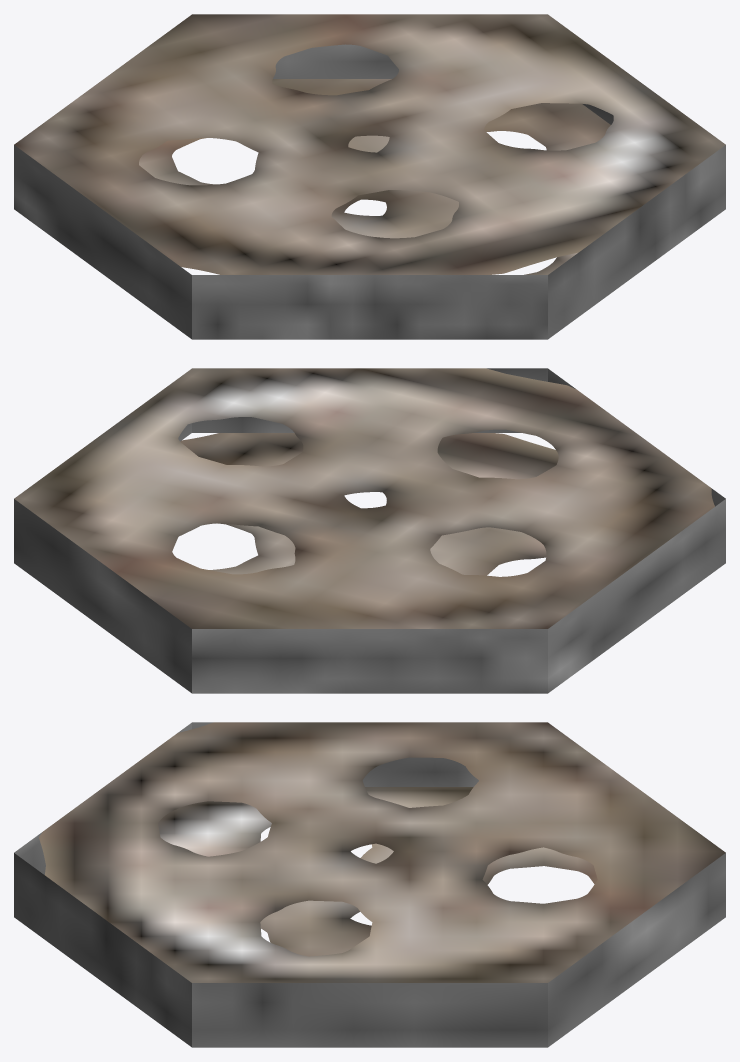
The model's file is Cog.fbx.
3 views of the same model, one above another, from view 1: azimuth 30°, elevation 25°; view 2: azimuth 150°, elevation 25°; view 3: azimuth 270°, elevation 25° (orthographic).
Visible parts, largest first — view 1: Cog; view 2: Cog; view 3: Cog.
Part boxes in pixels (left/top/right/bottom): Cog: left=14, top=14, right=725, bottom=339; Cog: left=14, top=368, right=725, bottom=693; Cog: left=14, top=722, right=725, bottom=1047.
Bounding box in the file's own units: 75.85 × 8.75 × 87.58.
